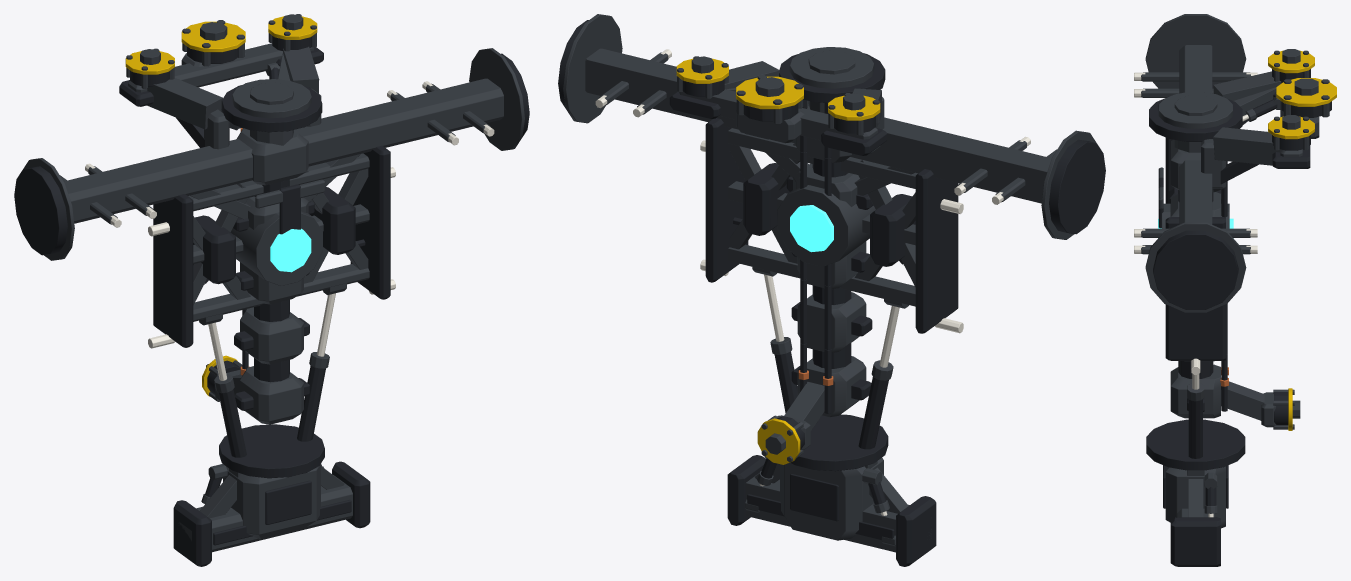
Rendered from Skel_TorsoHumanoid_Medium.fbx.
3 views of the same model, side by side, from view 1: azimuth 30°, elevation 25°; view 2: azimuth 150°, elevation 25°; view 3: azimuth 270°, elevation 25° (orthographic). The views are drawn at different scales.
Parts seen in each view (by area): view 1: Skel_TorsoHumanoid_Medium; view 2: Skel_TorsoHumanoid_Medium; view 3: Skel_TorsoHumanoid_Medium.
Part boxes in pixels (x1,y1,x2,y2): Skel_TorsoHumanoid_Medium: (14,14,529,566); Skel_TorsoHumanoid_Medium: (558,14,1105,566); Skel_TorsoHumanoid_Medium: (1134,14,1336,566).
Size of the model in its own units: 2.05 by 1.95 by 0.806.
